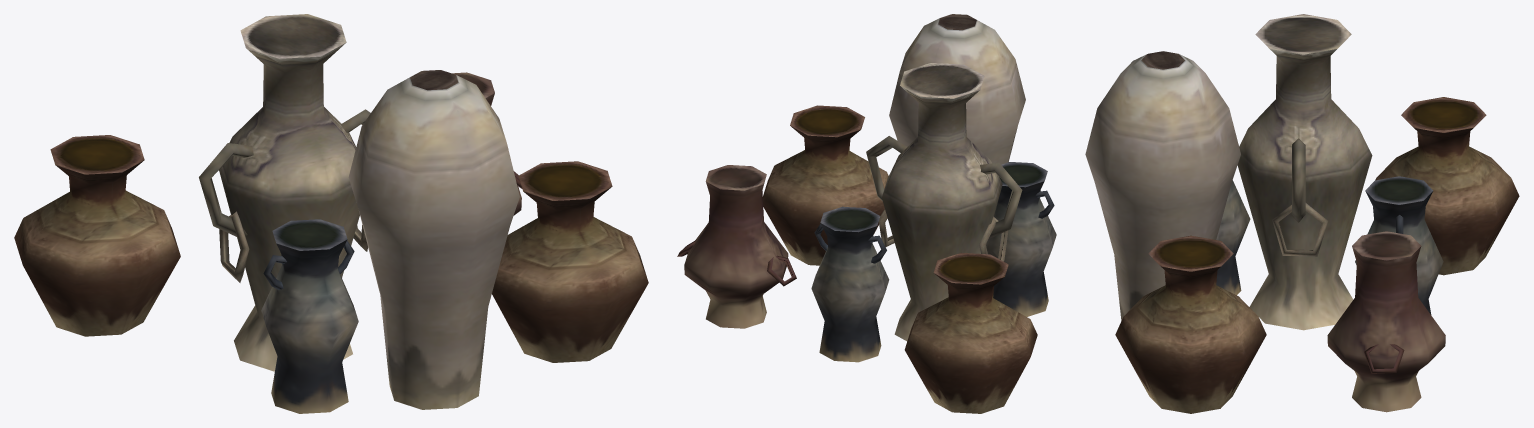
Rendered from guanzi_xb_41.FBX.
The picture shows the model from 3 angles, left to right: view 1: azimuth 30°, elevation 25°; view 2: azimuth 150°, elevation 25°; view 3: azimuth 270°, elevation 25°; orthographic projection. The views are drawn at different scales.
Parts seen in each view (by area): view 1: guanzi_xb_41; view 2: guanzi_xb_41; view 3: guanzi_xb_41.
Part boxes in pixels (box(x1,y1,x2,y2)): guanzi_xb_41: box(14, 14, 648, 413); guanzi_xb_41: box(677, 14, 1056, 413); guanzi_xb_41: box(1085, 14, 1519, 413).
Size of the model in its own units: 182 by 114 by 164.
